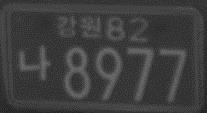2: (128, 16, 151, 42)
7: (158, 48, 188, 100), (126, 47, 154, 100)
8: (63, 47, 92, 100), (107, 16, 126, 40)
9: (95, 47, 123, 101)
강원_O: (55, 14, 102, 40)
나: (17, 44, 51, 81)
